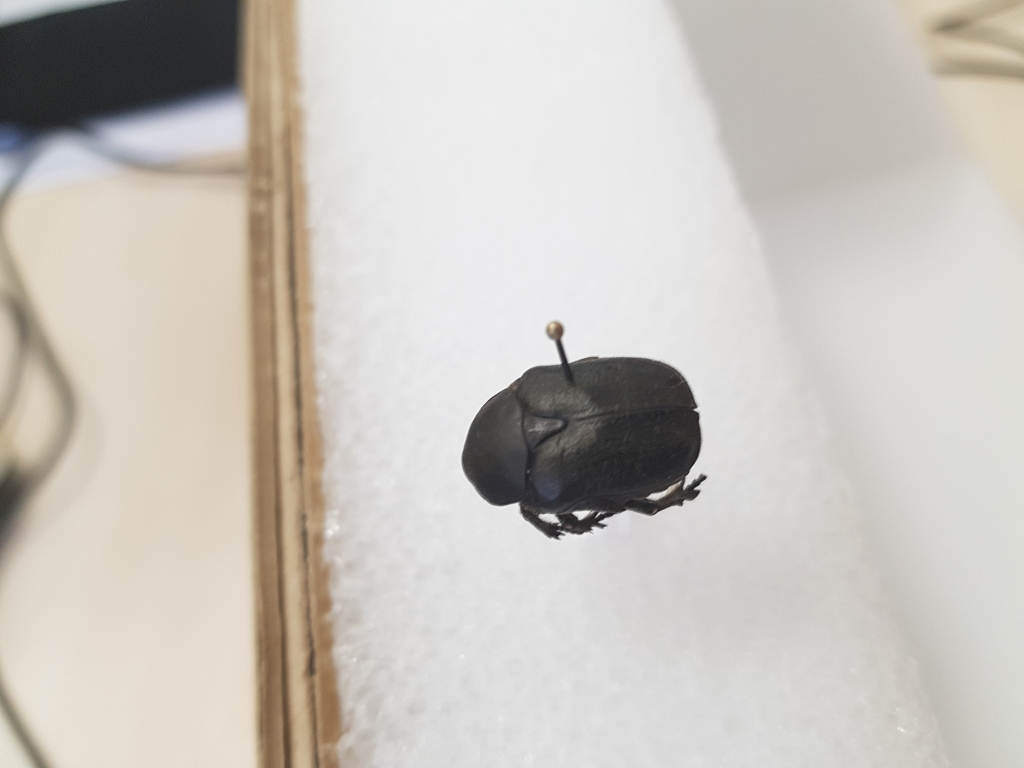Protaetia_vidua: (458, 351, 705, 543)
